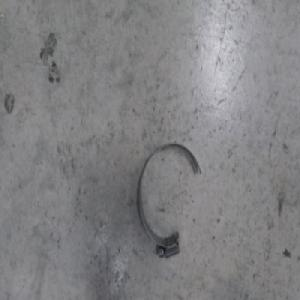AdjustableClamp: (137, 141, 201, 259)
